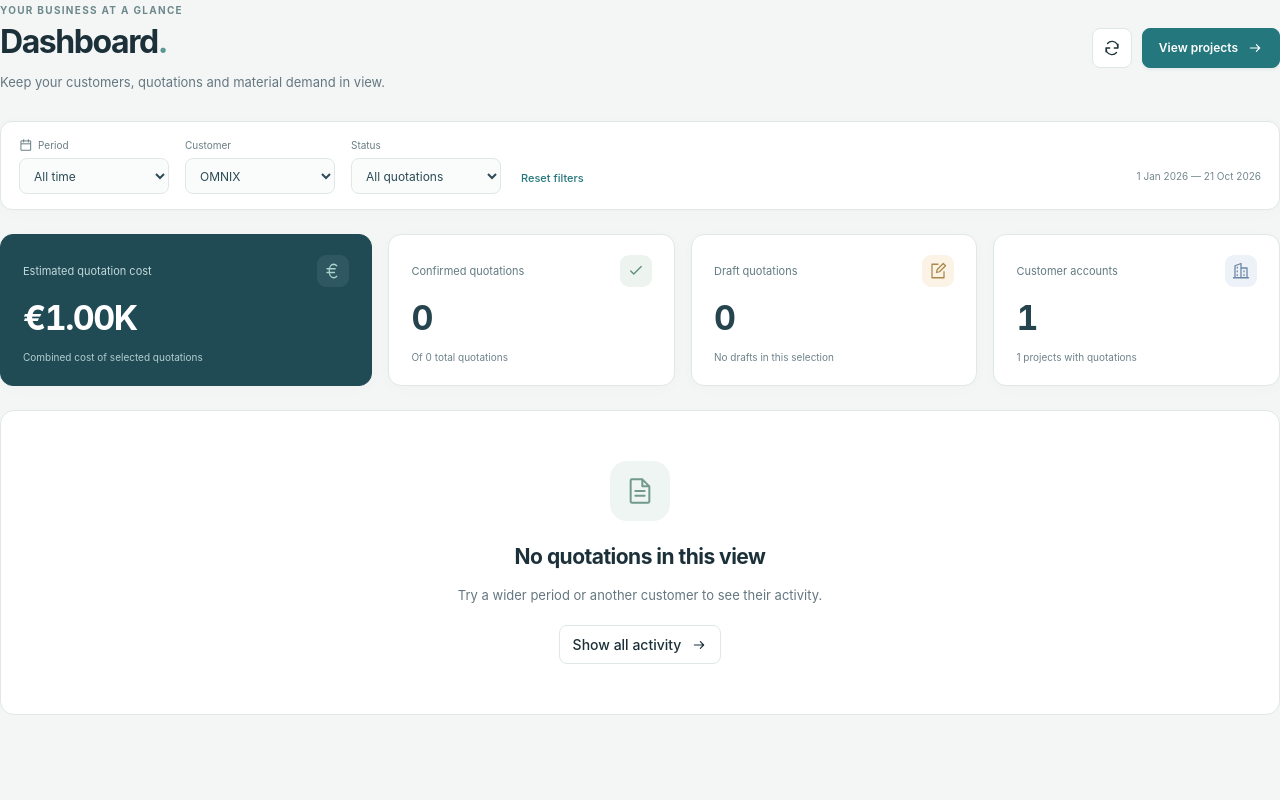
Scenario: Dashboard › recovers from an empty customer selection by clearing the filters
Check: the heading "No quotations in this view" is shown, box [515,544,765,570]
Click the button "Show all activity": (640, 645) [559,626,721,664]
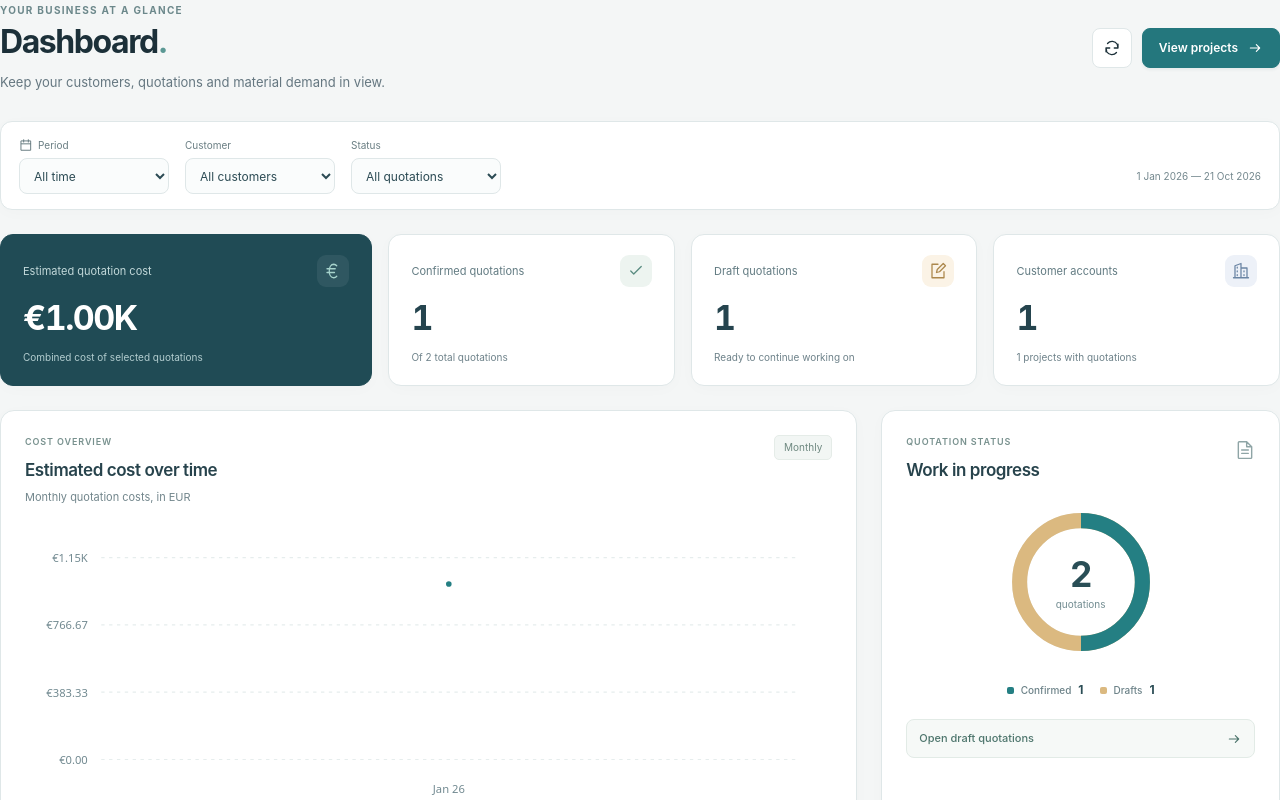
Check: the dropdown named "Dashboard customer" shows "All customers", box [185,158,335,194]
